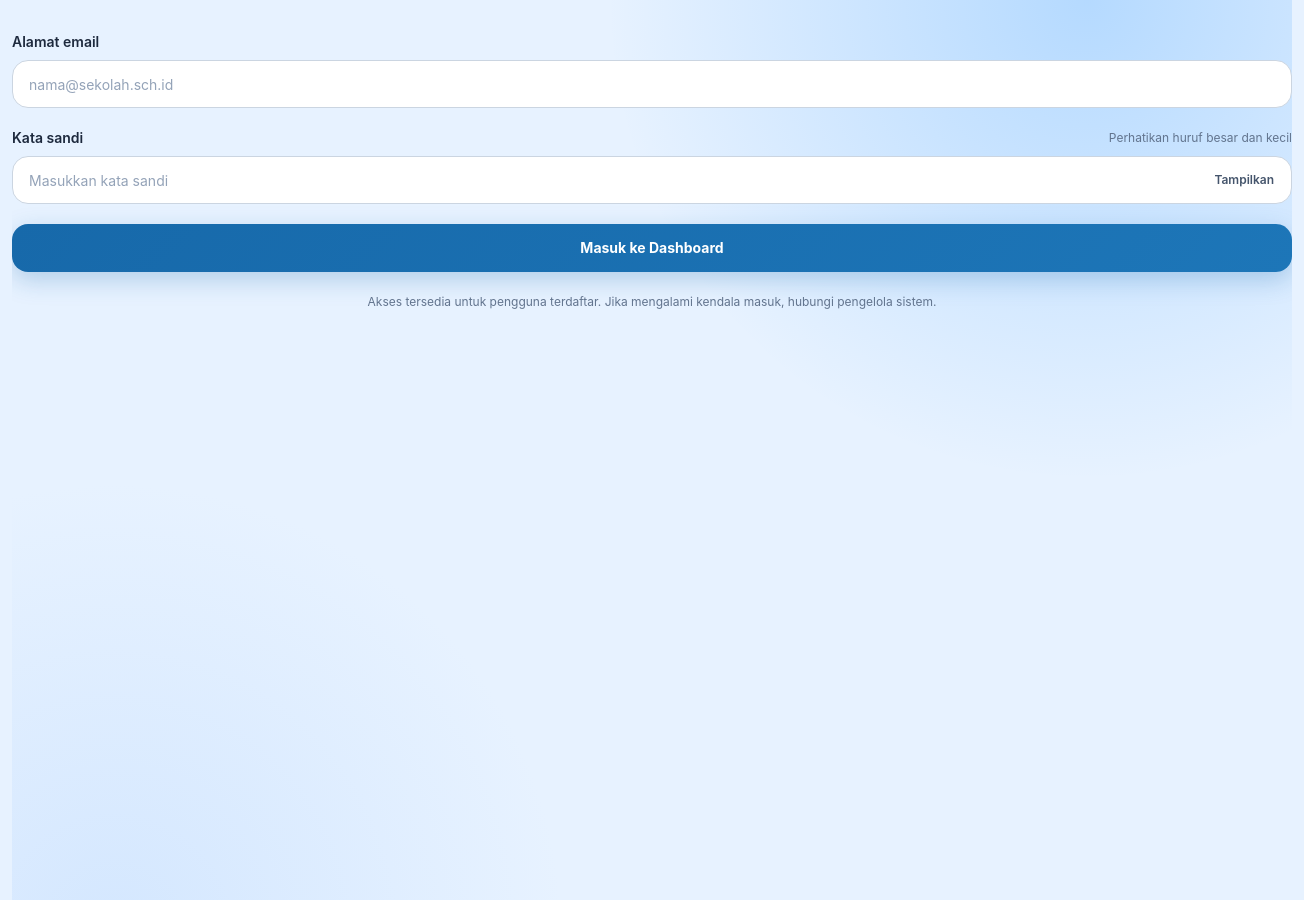
LoginForm › uses one generic message for rejected credentials
Type "admin@example.invalid" into the field labelled "Alamat email" at (652,84), box [12, 60, 1292, 108]
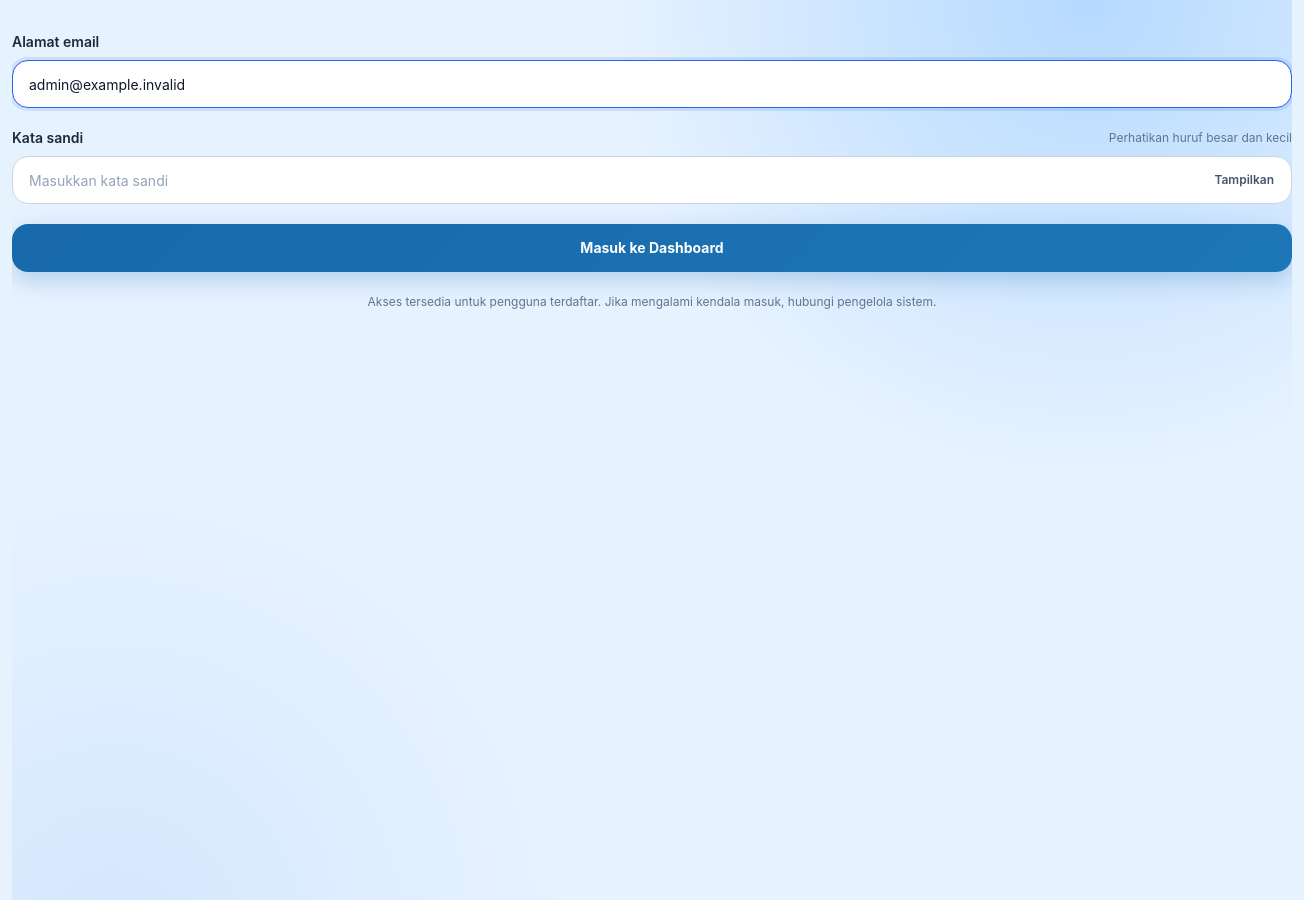
Type "wrong-password" into the password field labelled "Kata sandi" at (652,180), box [12, 156, 1292, 204]
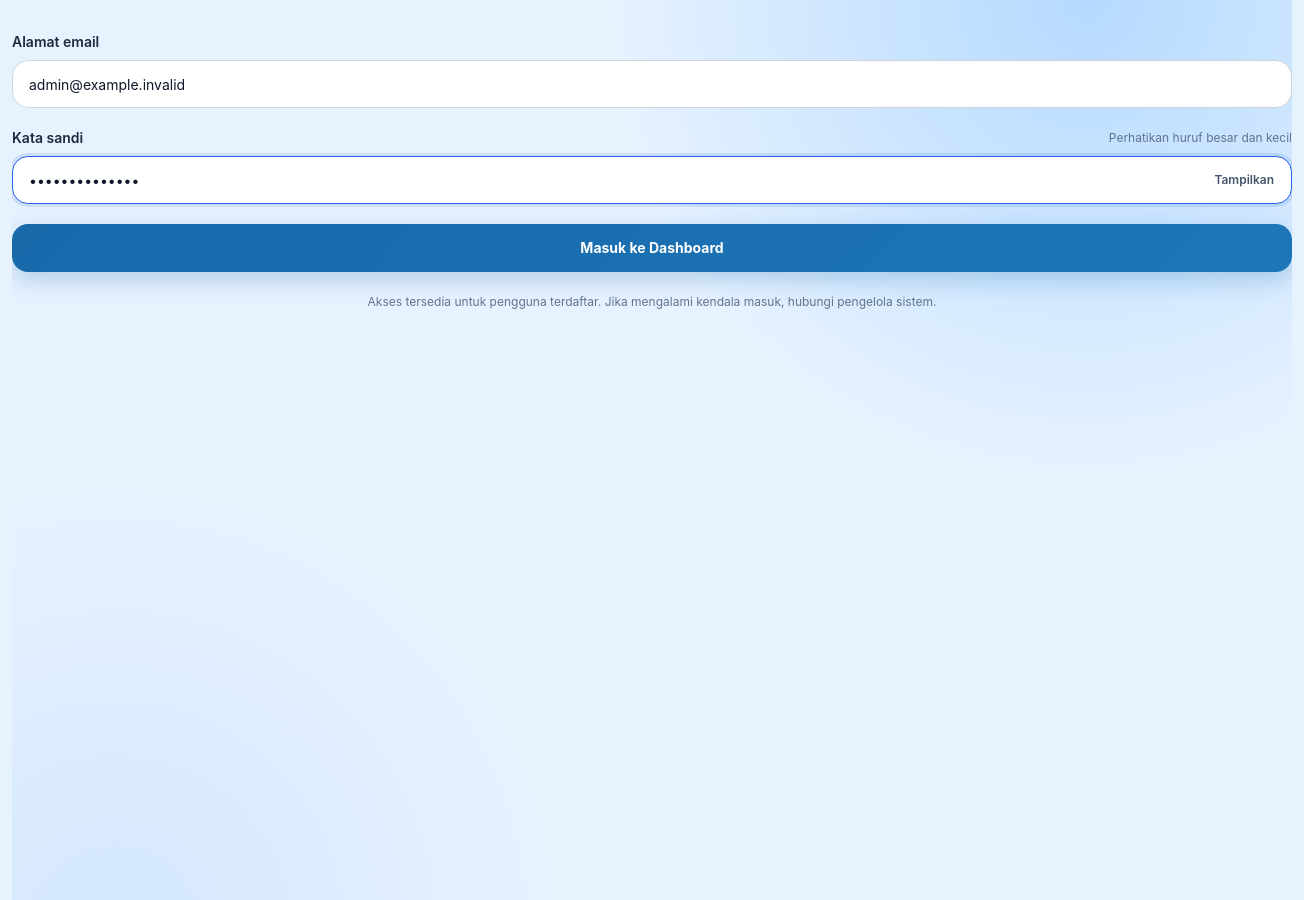
Click the button "Masuk ke Dashboard" at (652,248), box [12, 224, 1292, 272]
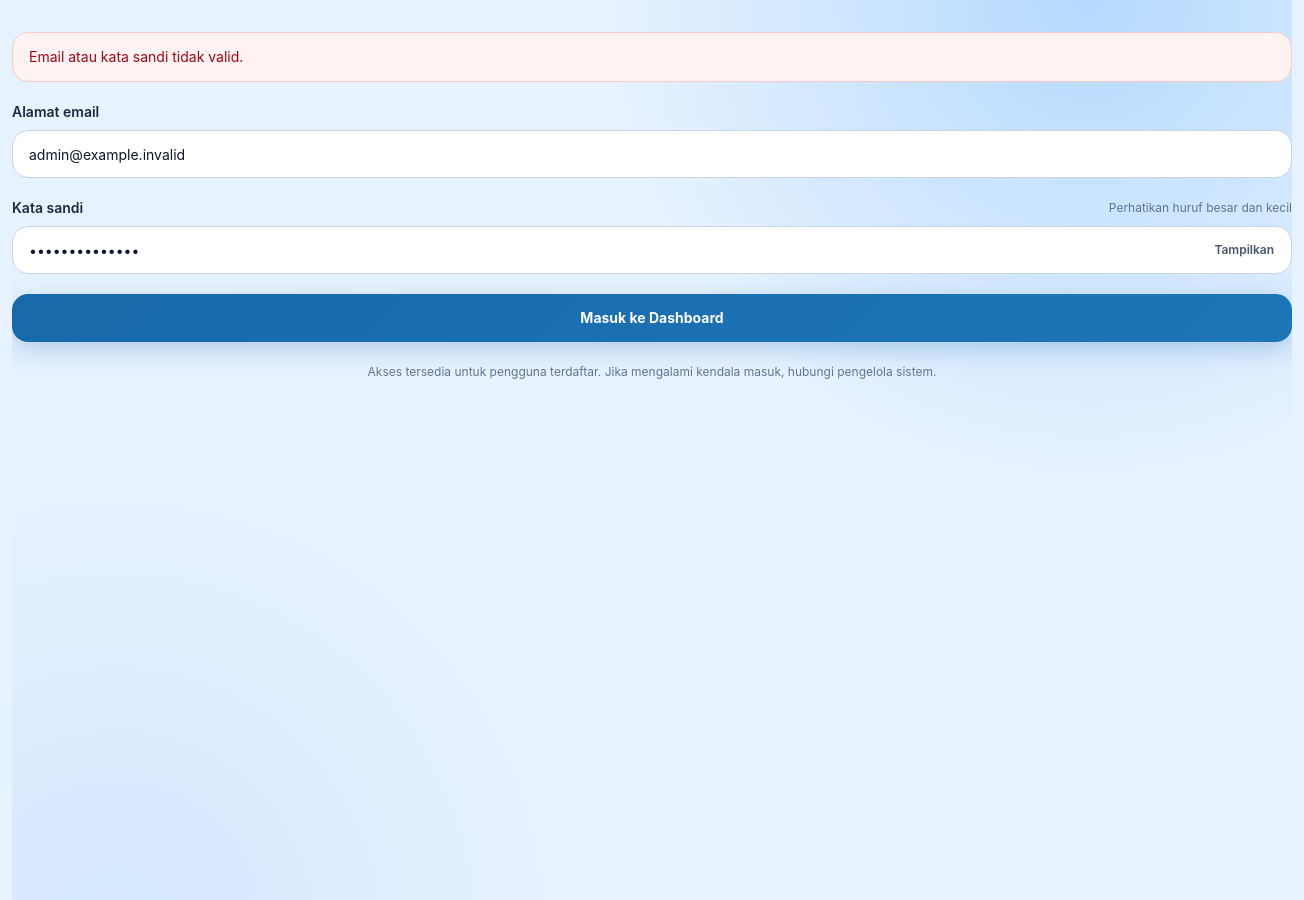
Now the message reads "Email atau kata sandi tidak valid.", box [29, 48, 243, 65]
